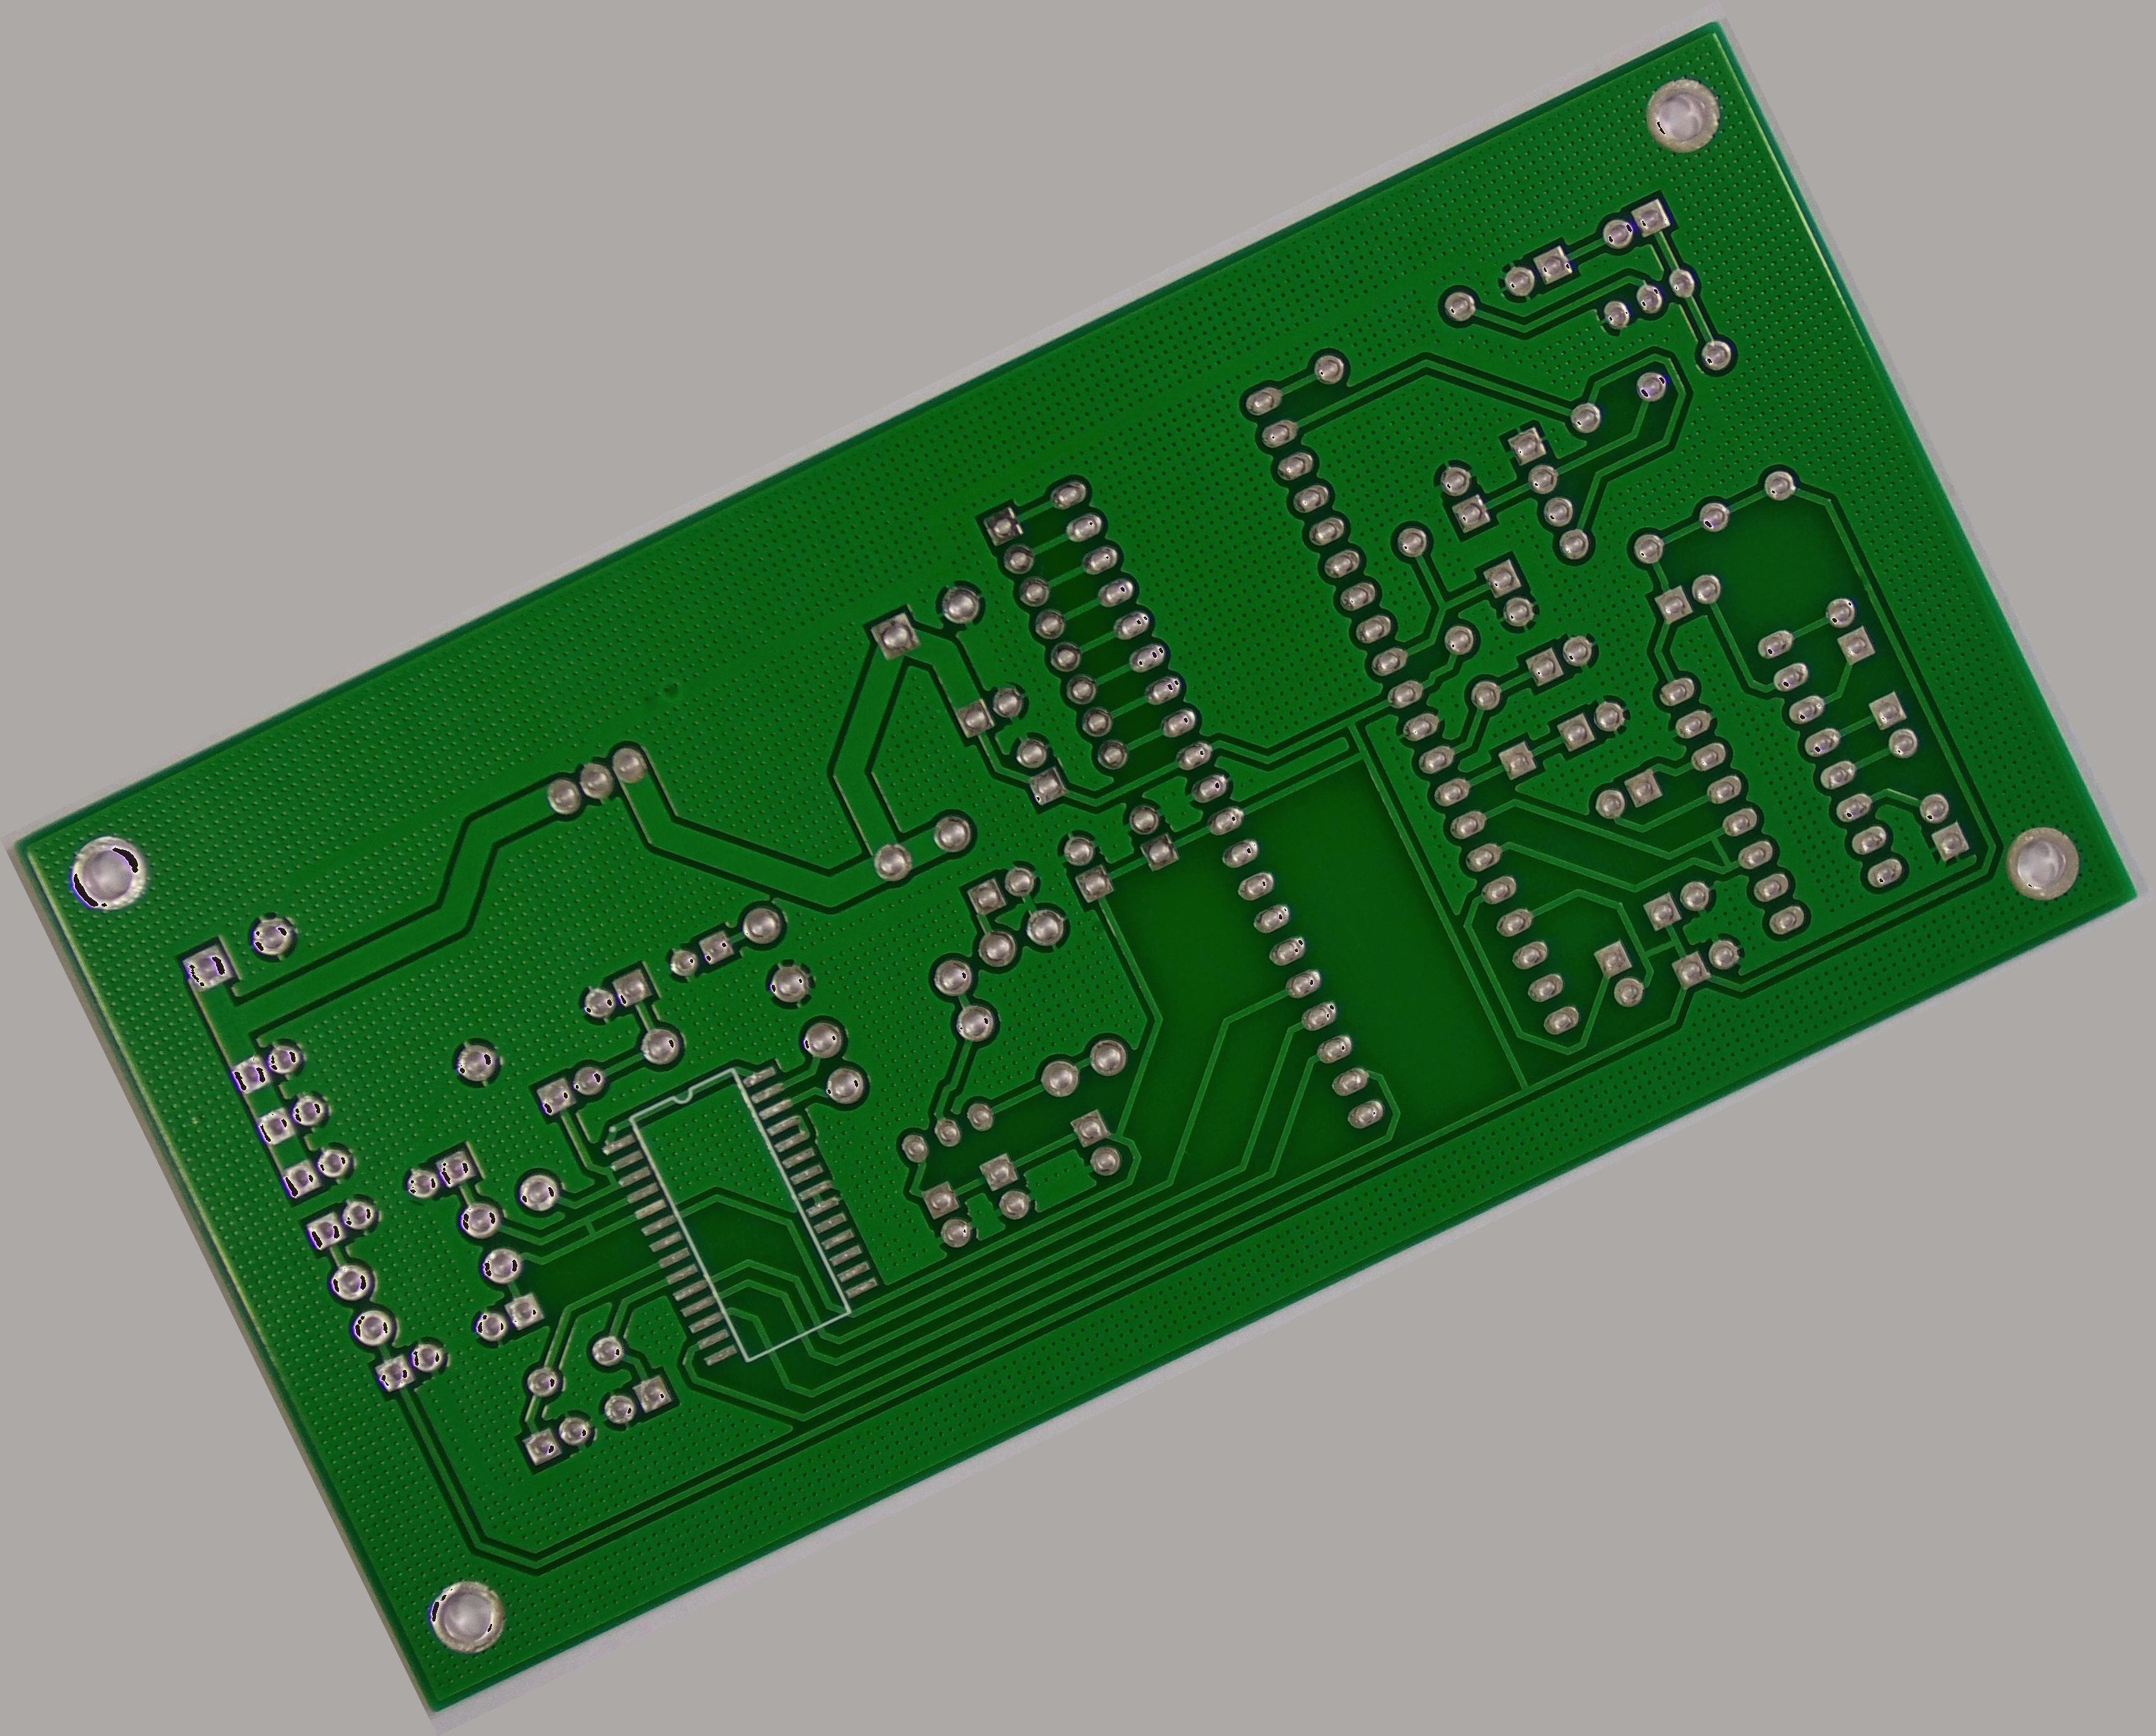short: (1687, 813, 1757, 886), (1628, 919, 1688, 978), (563, 1203, 611, 1254), (586, 1150, 631, 1196)
